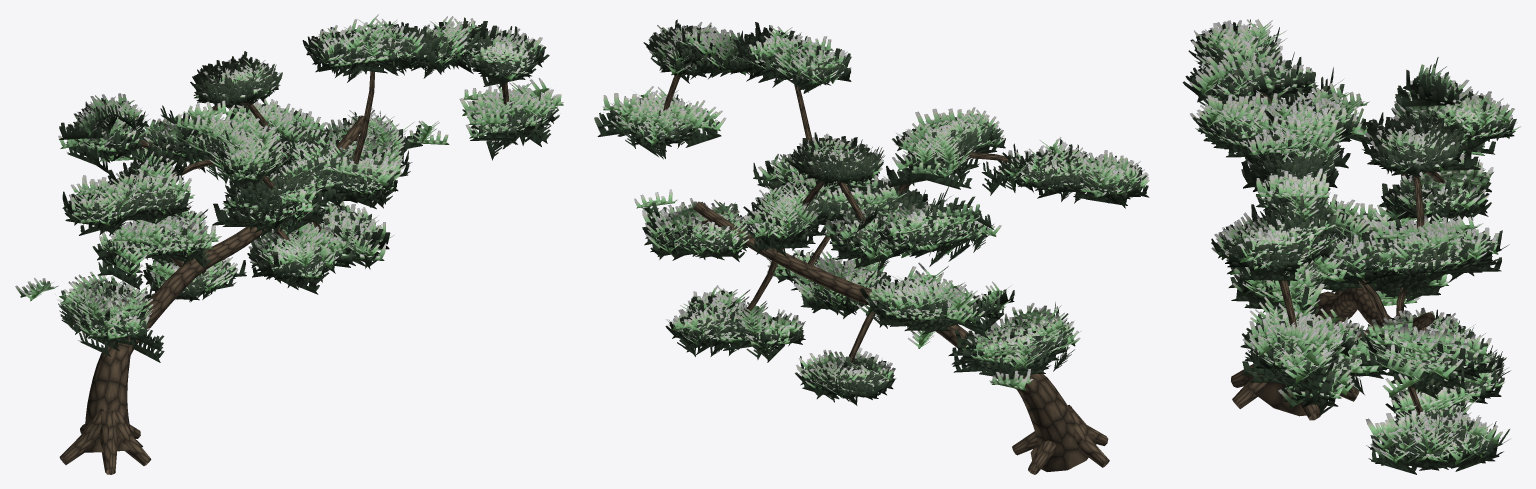
Rendered from pine_b_high.glb.
3 views of the same model, side by side, from view 1: azimuth 30°, elevation 25°; view 2: azimuth 150°, elevation 25°; view 3: azimuth 270°, elevation 25° (orthographic). The views are drawn at different scales.
Parts seen in each view (by area): view 1: pine_b; view 2: pine_b; view 3: pine_b.
Boxes of the visible parts, x1,y1,x2,y2 form: pine_b: (15, 14, 563, 474); pine_b: (594, 19, 1149, 474); pine_b: (1182, 19, 1521, 474).
Size of the model in its own units: 4.51 by 2.95 by 2.04.
1 material, 1 textured.
